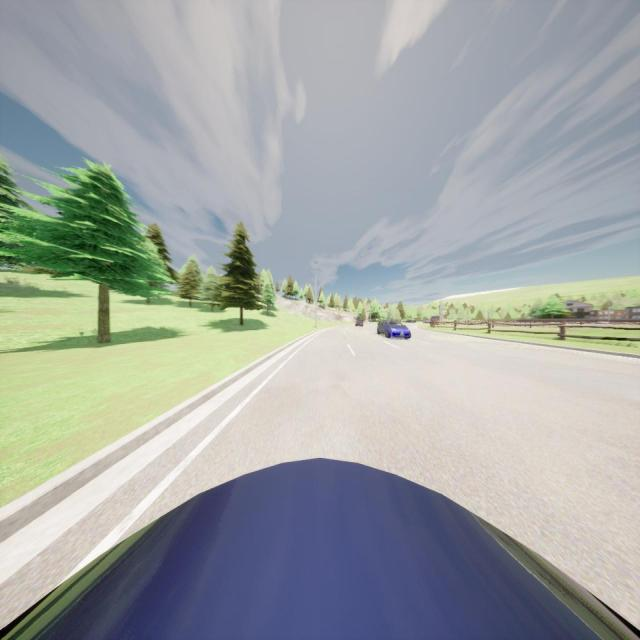Vehicle: (1, 456, 640, 640), (377, 321, 411, 338), (356, 319, 364, 327), (405, 318, 416, 323)
